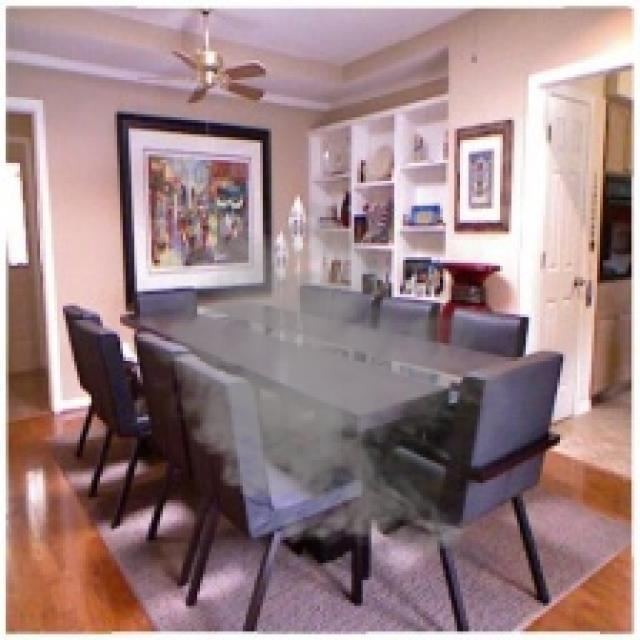Smoke: (139, 197, 532, 566)
